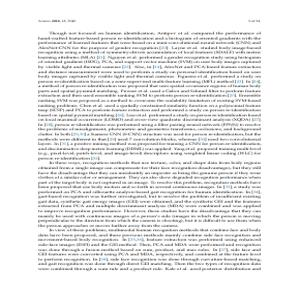text: (35, 30, 265, 273)
